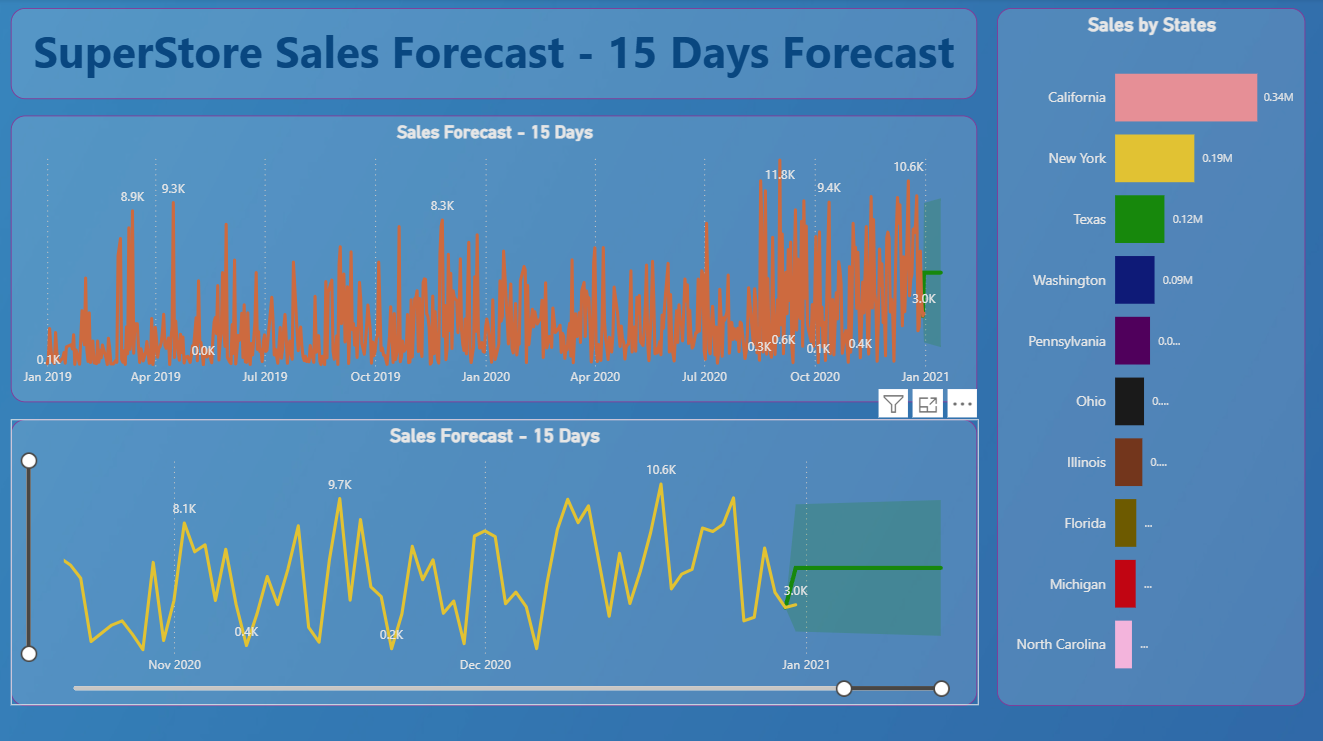

Layout of this report page (visuals, bound fields, positions):
{"tool":"powerbi","page":{"name":"Page 2","canvas":[1280,720],"ordinal":1},"visuals":[{"type":"lineChart","title":"Sales Forecast - 15 Days","fields":{"Y":["Sum(Sheet1.Sales)"],"Category":["Sheet1.Order Date"]},"box":[13.3,113.4,953.1,277.5],"z":0},{"type":"lineChart","title":"Sales Forecast - 15 Days","fields":{"Y":["Sum(Sheet1.Sales)"],"Category":["Sheet1.Order Date"]},"box":[13.3,406.6,953.1,276.3],"z":1000},{"type":"clusteredBarChart","title":"Sales by States","fields":{"Category":["Sheet1.State"],"Y":["Sum(Sheet1.Sales)"]},"box":[977.2,9.7,284.7,673.2],"z":2000},{"type":"textbox","box":[13.3,9.7,953.1,88.1],"z":3000}]}

Visuals, with their boxes in screenshot pixels (x1, y1, x2, y2), scaled from the page's 1280x720 canvas onto the 1323x741 screenshot:
"Sales Forecast - 15 Days" lineChart: 14:117:999:402
"Sales Forecast - 15 Days" lineChart: 14:418:999:703
"Sales by States" clusteredBarChart: 1010:10:1304:703
textbox: 14:10:999:101
